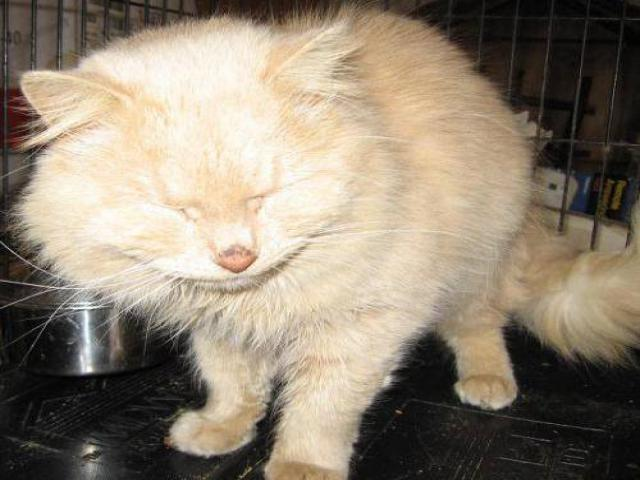cat: (6, 2, 603, 475)
